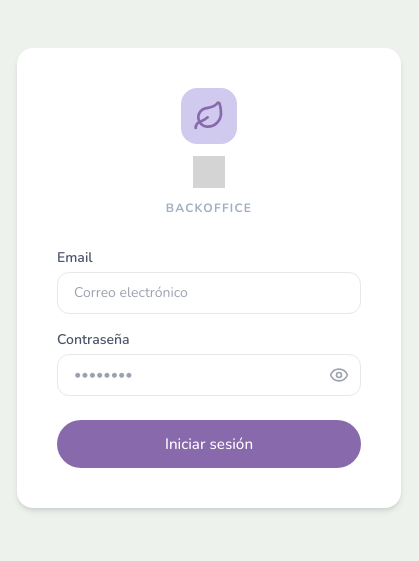
Test: BackofficeLogin › muestra mensaje amigable para credenciales inválidas
Type "admin@huly.com" into the field with placeholder "Correo electrónico" at (209, 293), box [57,272,361,314]
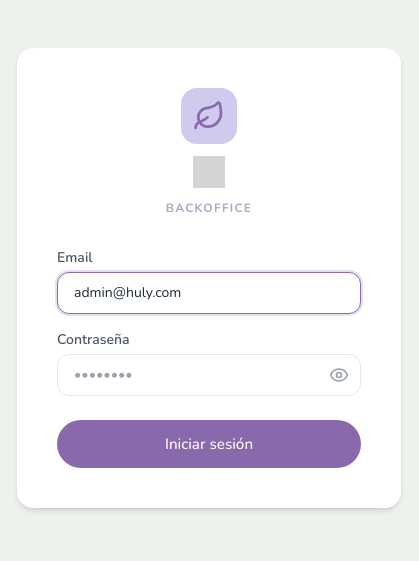
Type "password123" into the password field with placeholder "••••••••" at (209, 375), box [57,354,361,396]
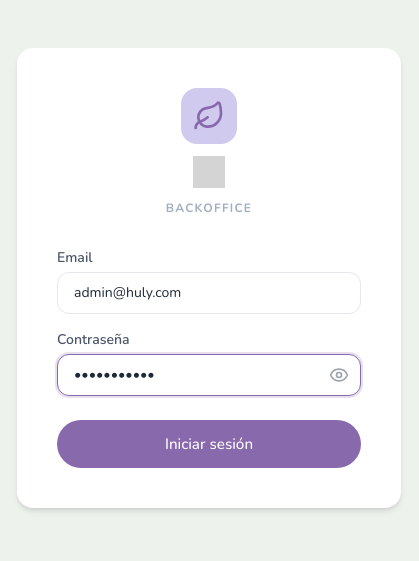
Click the button "Iniciar sesión" at (209, 444), box [57,420,361,468]
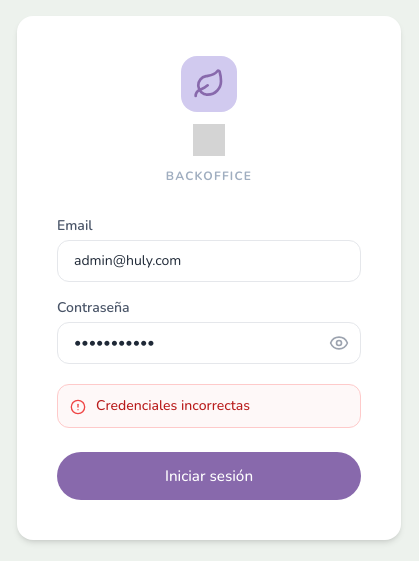
Now the text "Credenciales incorrectas" is shown, box [96,397,250,415]
